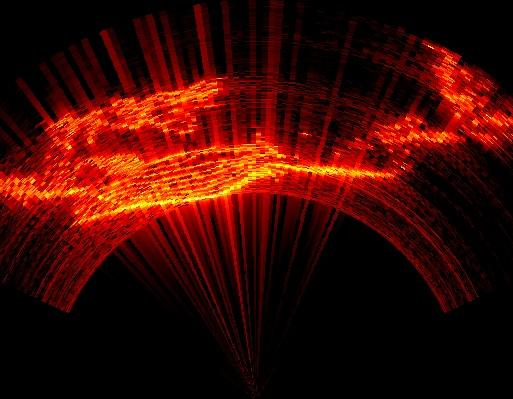shipwreck: (3, 147, 391, 225), (51, 79, 222, 150), (433, 50, 512, 147), (378, 115, 459, 146), (2, 166, 71, 176)
